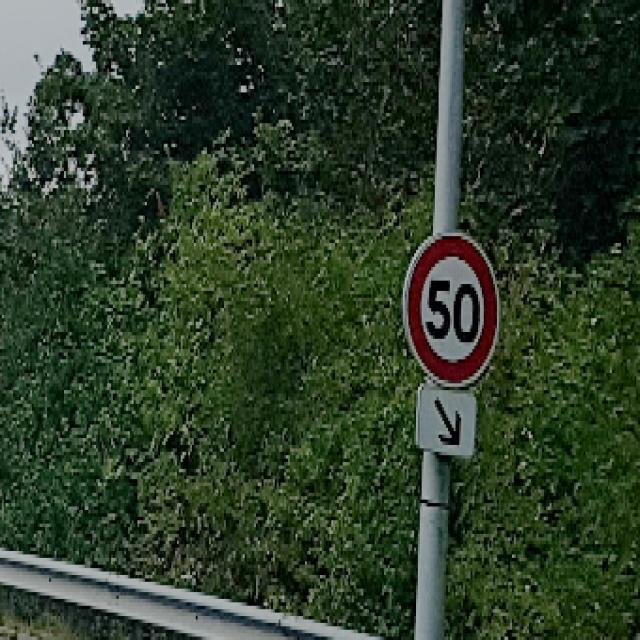speed_50: (402, 228, 502, 392)
